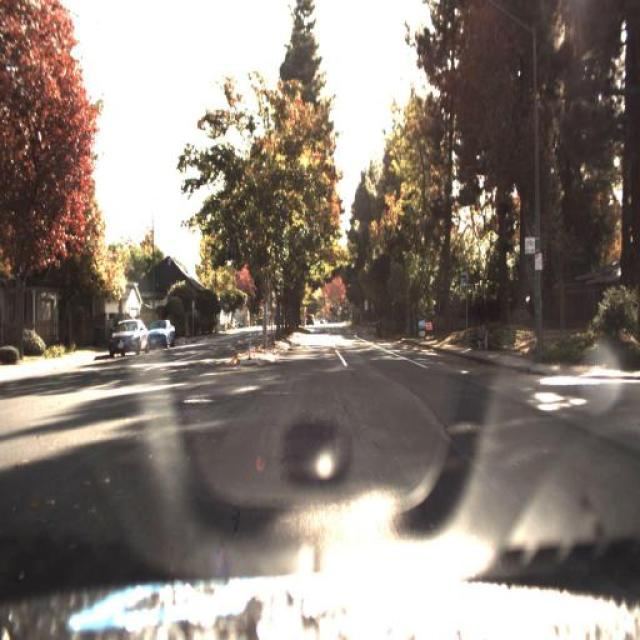car: (110, 308, 146, 356), (144, 317, 178, 353), (146, 318, 176, 352), (304, 305, 315, 331)
